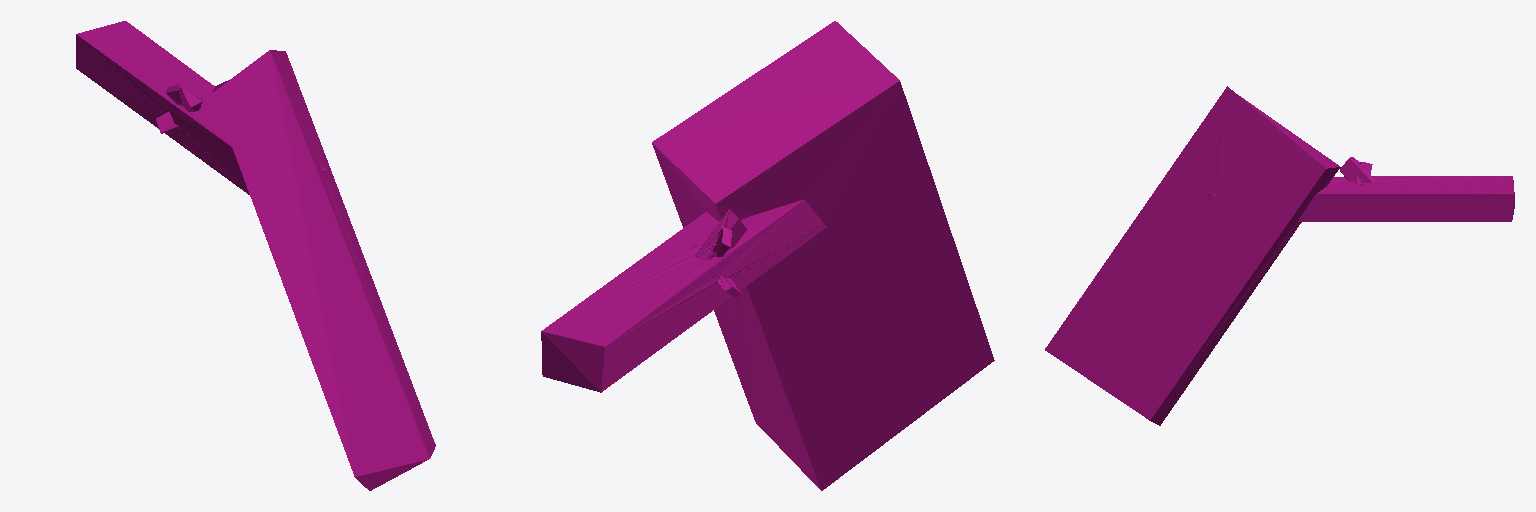
URDF robot description (blob001):

<robot name="blob001">
  <link name="random_obj_001">
    <contact>
      <lateral_friction value="1.0"/>
      <rolling_friction value="0.0"/>
      <inertia_scaling value="3.0"/>
      <contact_cfm value="0.0"/>
      <contact_erp value="1.0"/>
    </contact>
    <inertial>
      <origin rpy="0 0 0" xyz="0 0 0"/>
      <mass value="0.1317"/>
      <inertia ixx="1" ixy="0" ixz="0" iyy="1" iyz="0" izz="0"/>
    </inertial>
    <visual>
      <origin rpy="0 0 0" xyz="0 0 0"/>
      <geometry>
        <mesh filename="001.stl" scale="0.0090 0.0090 0.0090"/>
      </geometry>
      <material name="blockmat">
        <color rgba="0.70 0.13 0.56 1"/>
      </material>
    </visual>
    <collision>
      <origin rpy="0 0 0" xyz="0 0 0"/>
      <geometry>
        <mesh filename="001_coll.stl" scale="0.0090 0.0090 0.0090"/>
      </geometry>
    </collision>
  </link>
</robot>

--- Facts derived from the render (not from the file) ---
Views: 3 orthographic renders of the robot side by side, from view 1: azimuth 30°, elevation 25°; view 2: azimuth 150°, elevation 25°; view 3: azimuth 270°, elevation 25°.
Model blob001 with 1 links and 0 joints (none), rooted at random_obj_001, posed all joints at 0.
Visible links, largest first — view 1: random_obj_001; view 2: random_obj_001; view 3: random_obj_001.
Link boxes in pixels (<box>): random_obj_001: <box>76,21,435,490</box>; random_obj_001: <box>541,21,994,490</box>; random_obj_001: <box>1045,86,1514,425</box>.
Size in the robot's own frame: 0.0515 by 0.1637 by 0.1225 metres.
Meshes: 1 distinct files referenced, 1 mesh visuals loaded (1 binary STL).